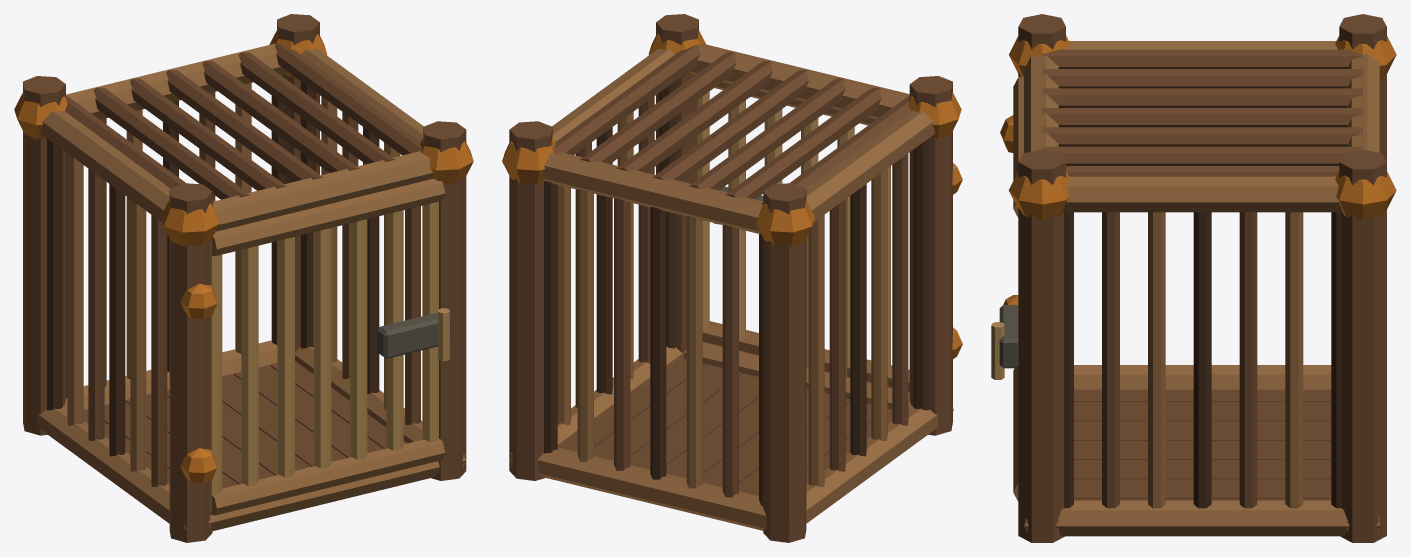
File: twig-cage.glb
3 renders of one model, left to right at view 1: azimuth 30°, elevation 25°; view 2: azimuth 150°, elevation 25°; view 3: azimuth 270°, elevation 25°, orthographic. The views are drawn at different scales.
Visible parts, largest first — view 1: twig-cage; view 2: twig-cage; view 3: twig-cage.
Boxes of the visible parts, <box> form: twig-cage: <box>14,14,473,542</box>; twig-cage: <box>502,14,962,542</box>; twig-cage: <box>991,14,1396,542</box>.
Bounding box in the file's own units: 2.54 × 2.71 × 2.65.
